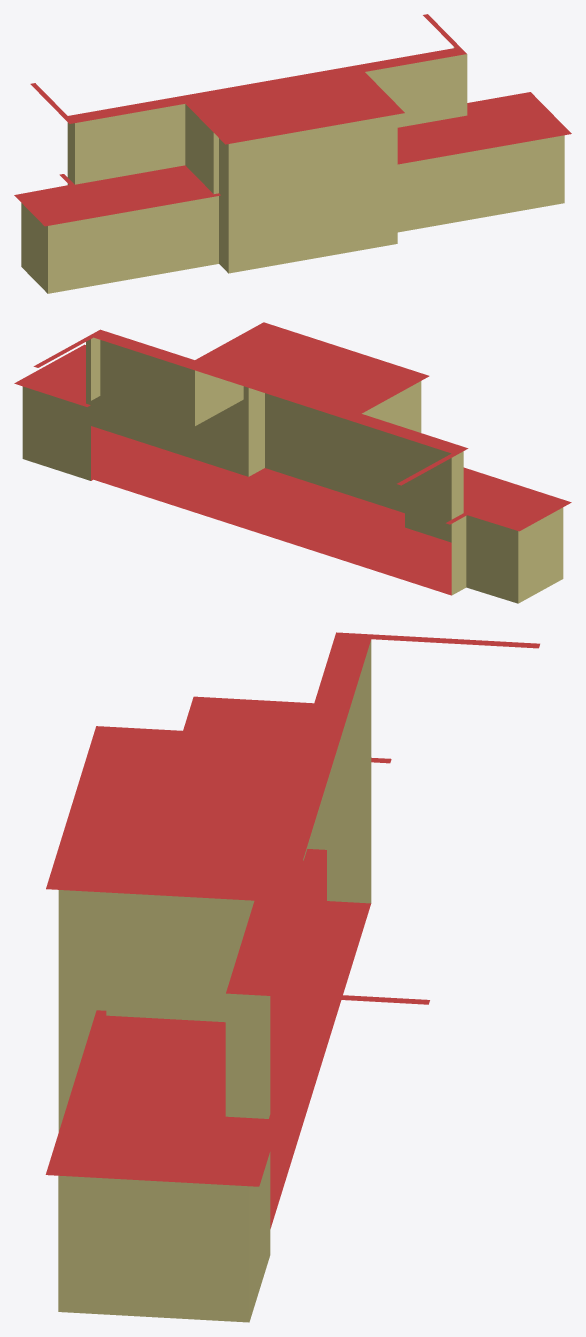
3 views of the same model, one above another, from view 1: azimuth 30°, elevation 25°; view 2: azimuth 150°, elevation 25°; view 3: azimuth 270°, elevation 25° (orthographic). The views are drawn at different scales.
Bounding box in the file's own units: 25.5 × 10.87 × 6.41.
